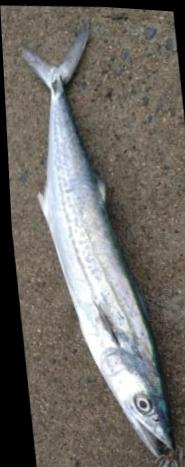fish: (20, 22, 172, 461)
